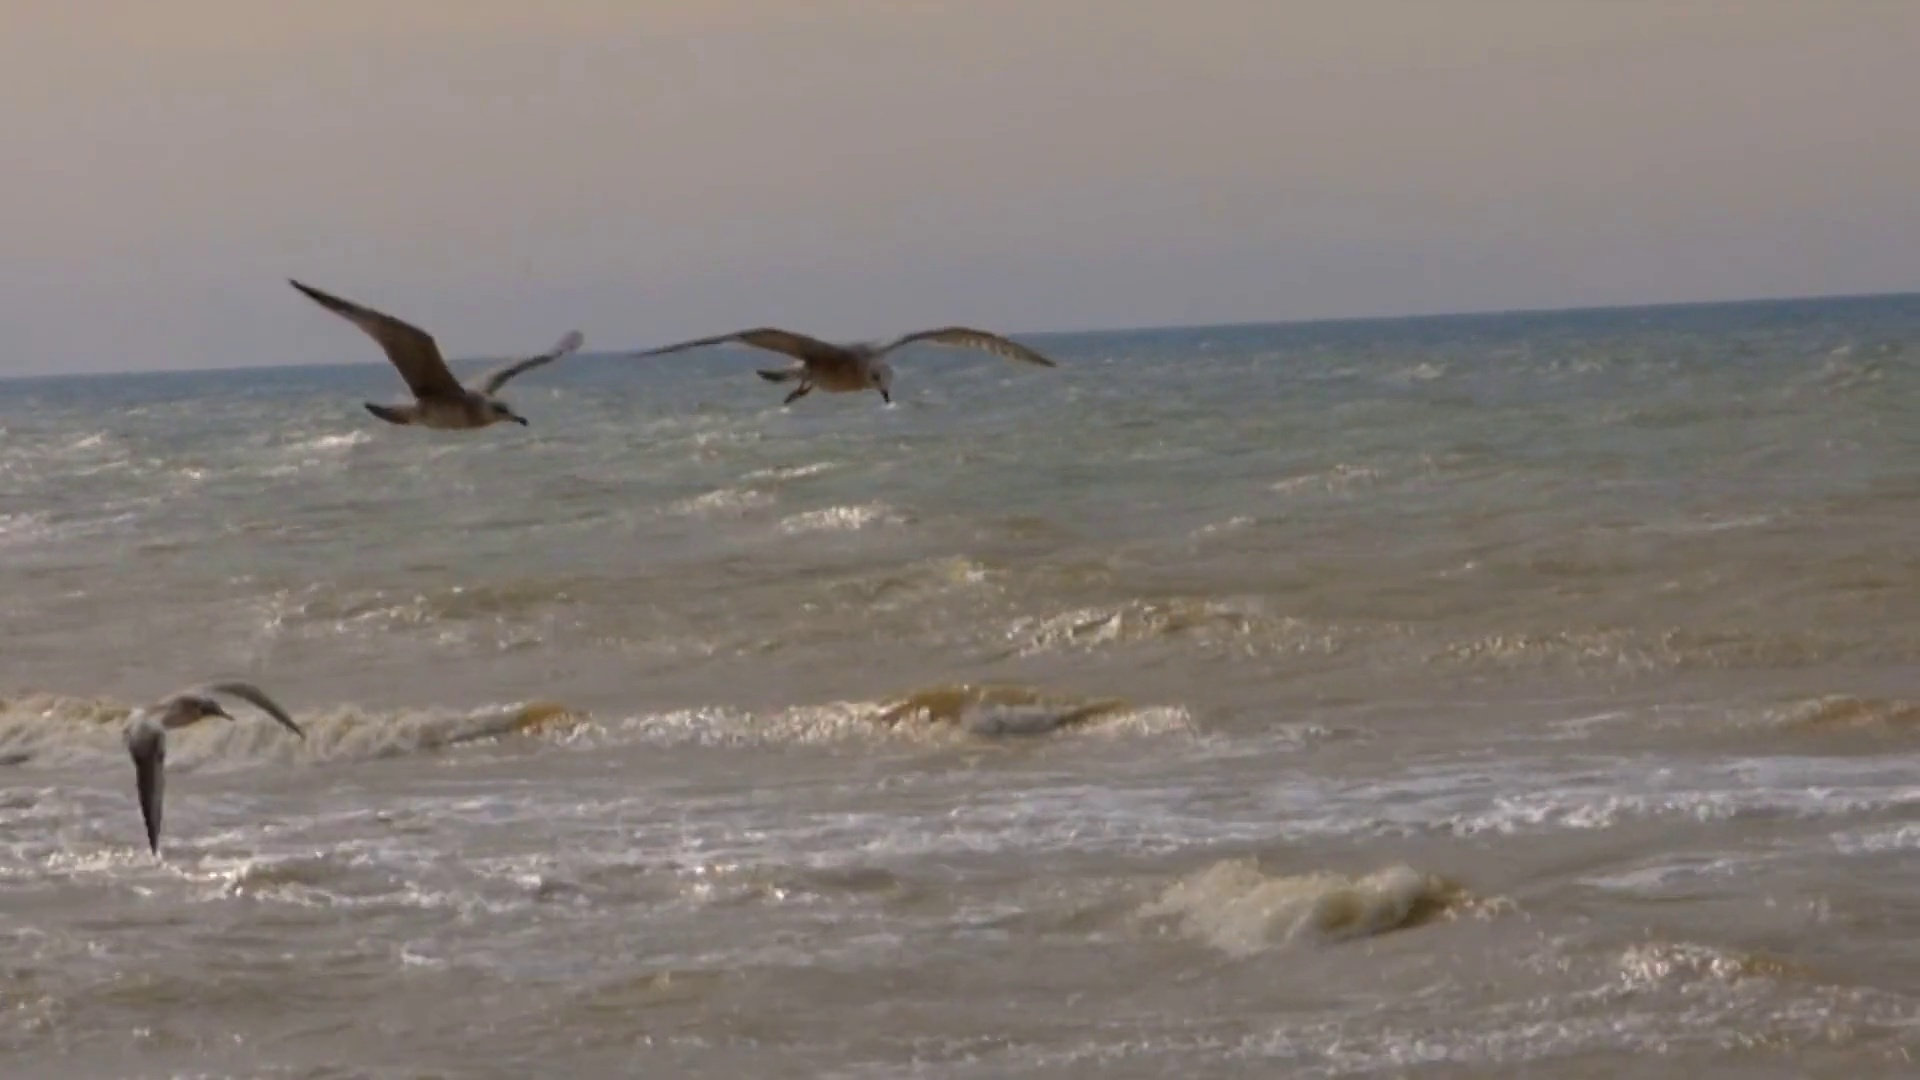bird: (282, 270, 584, 426), (115, 673, 305, 853), (636, 324, 1058, 400)
